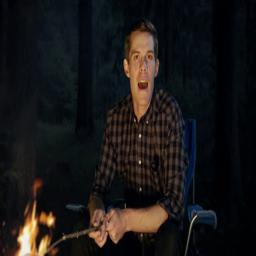fire: (15, 182, 54, 256)
